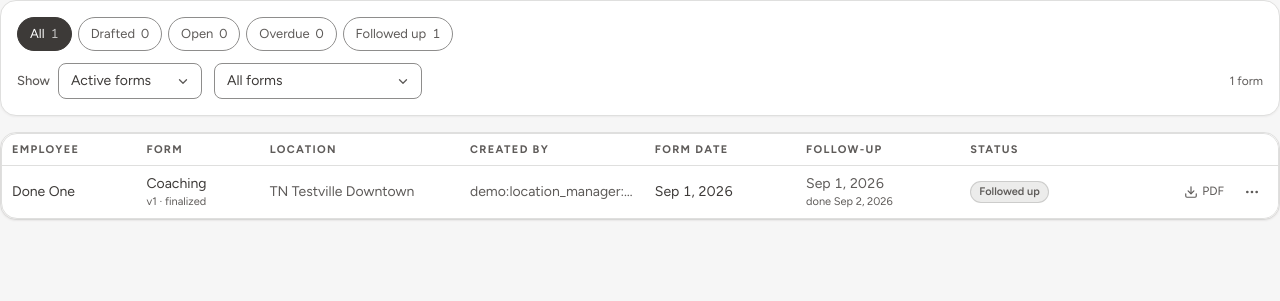
it: the row menu "…" opens with something in it › that role still gets Reopen follow-up on a followed-up row
Click the button named "More actions for Done One" at coordinates (1252, 192), box [1236, 176, 1268, 208]
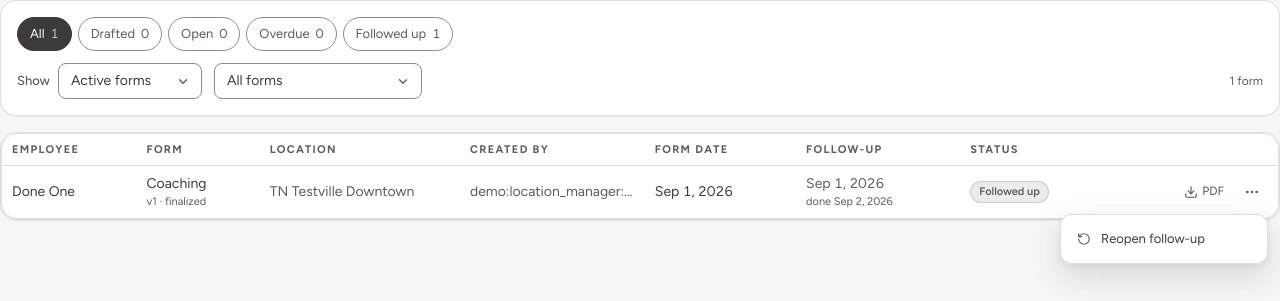
Expected: the menu items read "Reopen follow-up", in this order, [1077, 231, 1205, 246]
